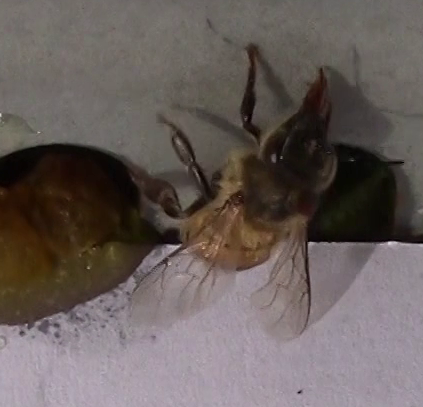Varroa destructor: (299, 191, 317, 218)
